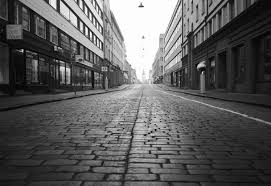strada: (2, 84, 260, 185)
